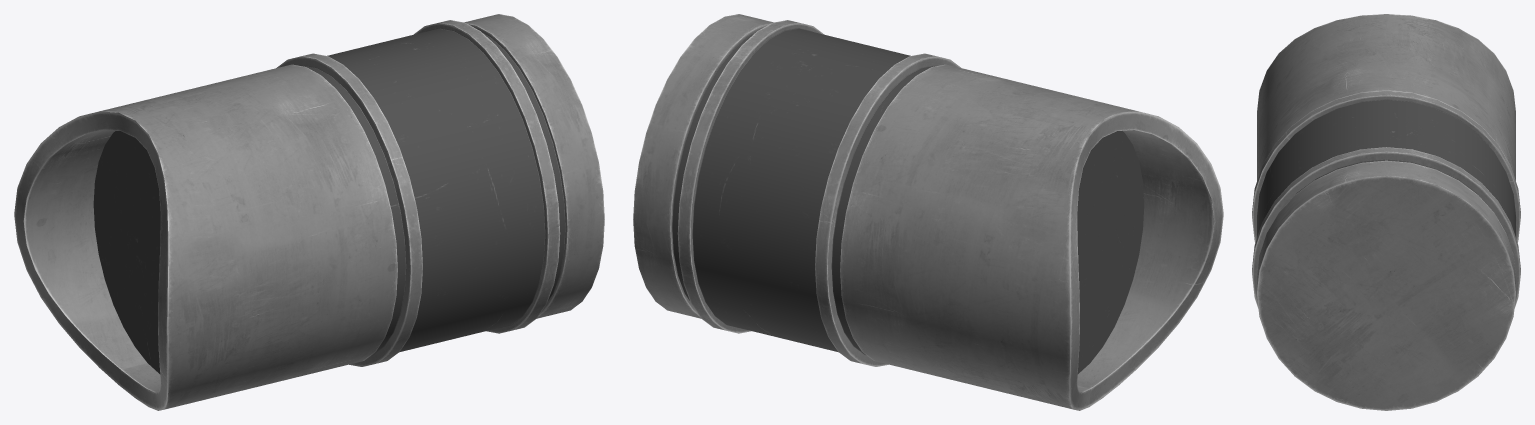
File: pommel_5_c_a.glb
3 renders of one model, left to right at view 1: azimuth 30°, elevation 25°; view 2: azimuth 150°, elevation 25°; view 3: azimuth 270°, elevation 25°, orthographic. The views are drawn at different scales.
Parts seen in each view (by area): view 1: pommel_5_c_a_lod0; view 2: pommel_5_c_a_lod0; view 3: pommel_5_c_a_lod0.
Boxes of the visible parts, x1,y1,x2,y2 form: pommel_5_c_a_lod0: [14, 14, 604, 410]; pommel_5_c_a_lod0: [633, 14, 1223, 410]; pommel_5_c_a_lod0: [1252, 14, 1520, 410].
Size of what is drawn, in the model's own units: 0.0488 by 0.0307 by 0.0307.
1 material, 1 textured.
